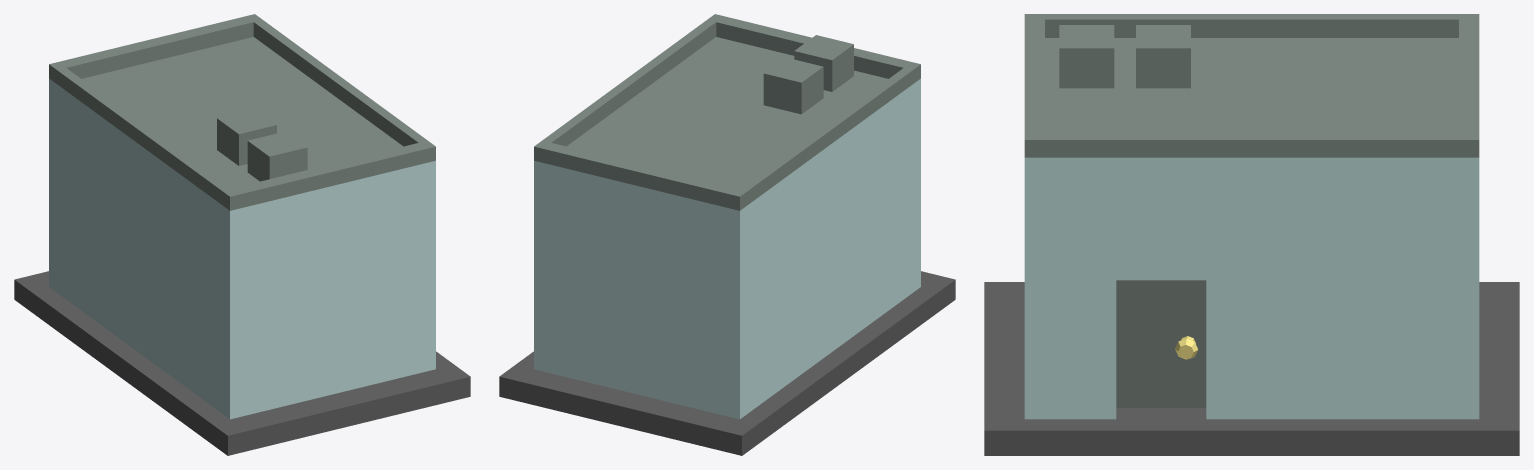
File: Building 7.fbx
The picture shows the model from 3 angles, left to right: view 1: azimuth 30°, elevation 25°; view 2: azimuth 150°, elevation 25°; view 3: azimuth 270°, elevation 25°; orthographic projection. The views are drawn at different scales.
Parts seen in each view (by area): view 1: Cube; view 2: Cube; view 3: Cube.
Boxes of the visible parts, x1=… form: Cube: x1=14, y1=14, x2=470, y2=455; Cube: x1=499, y1=14, x2=955, y2=455; Cube: x1=984, y1=14, x2=1519, y2=455.
Bounding box in the file's own units: 426 × 436 × 649.
